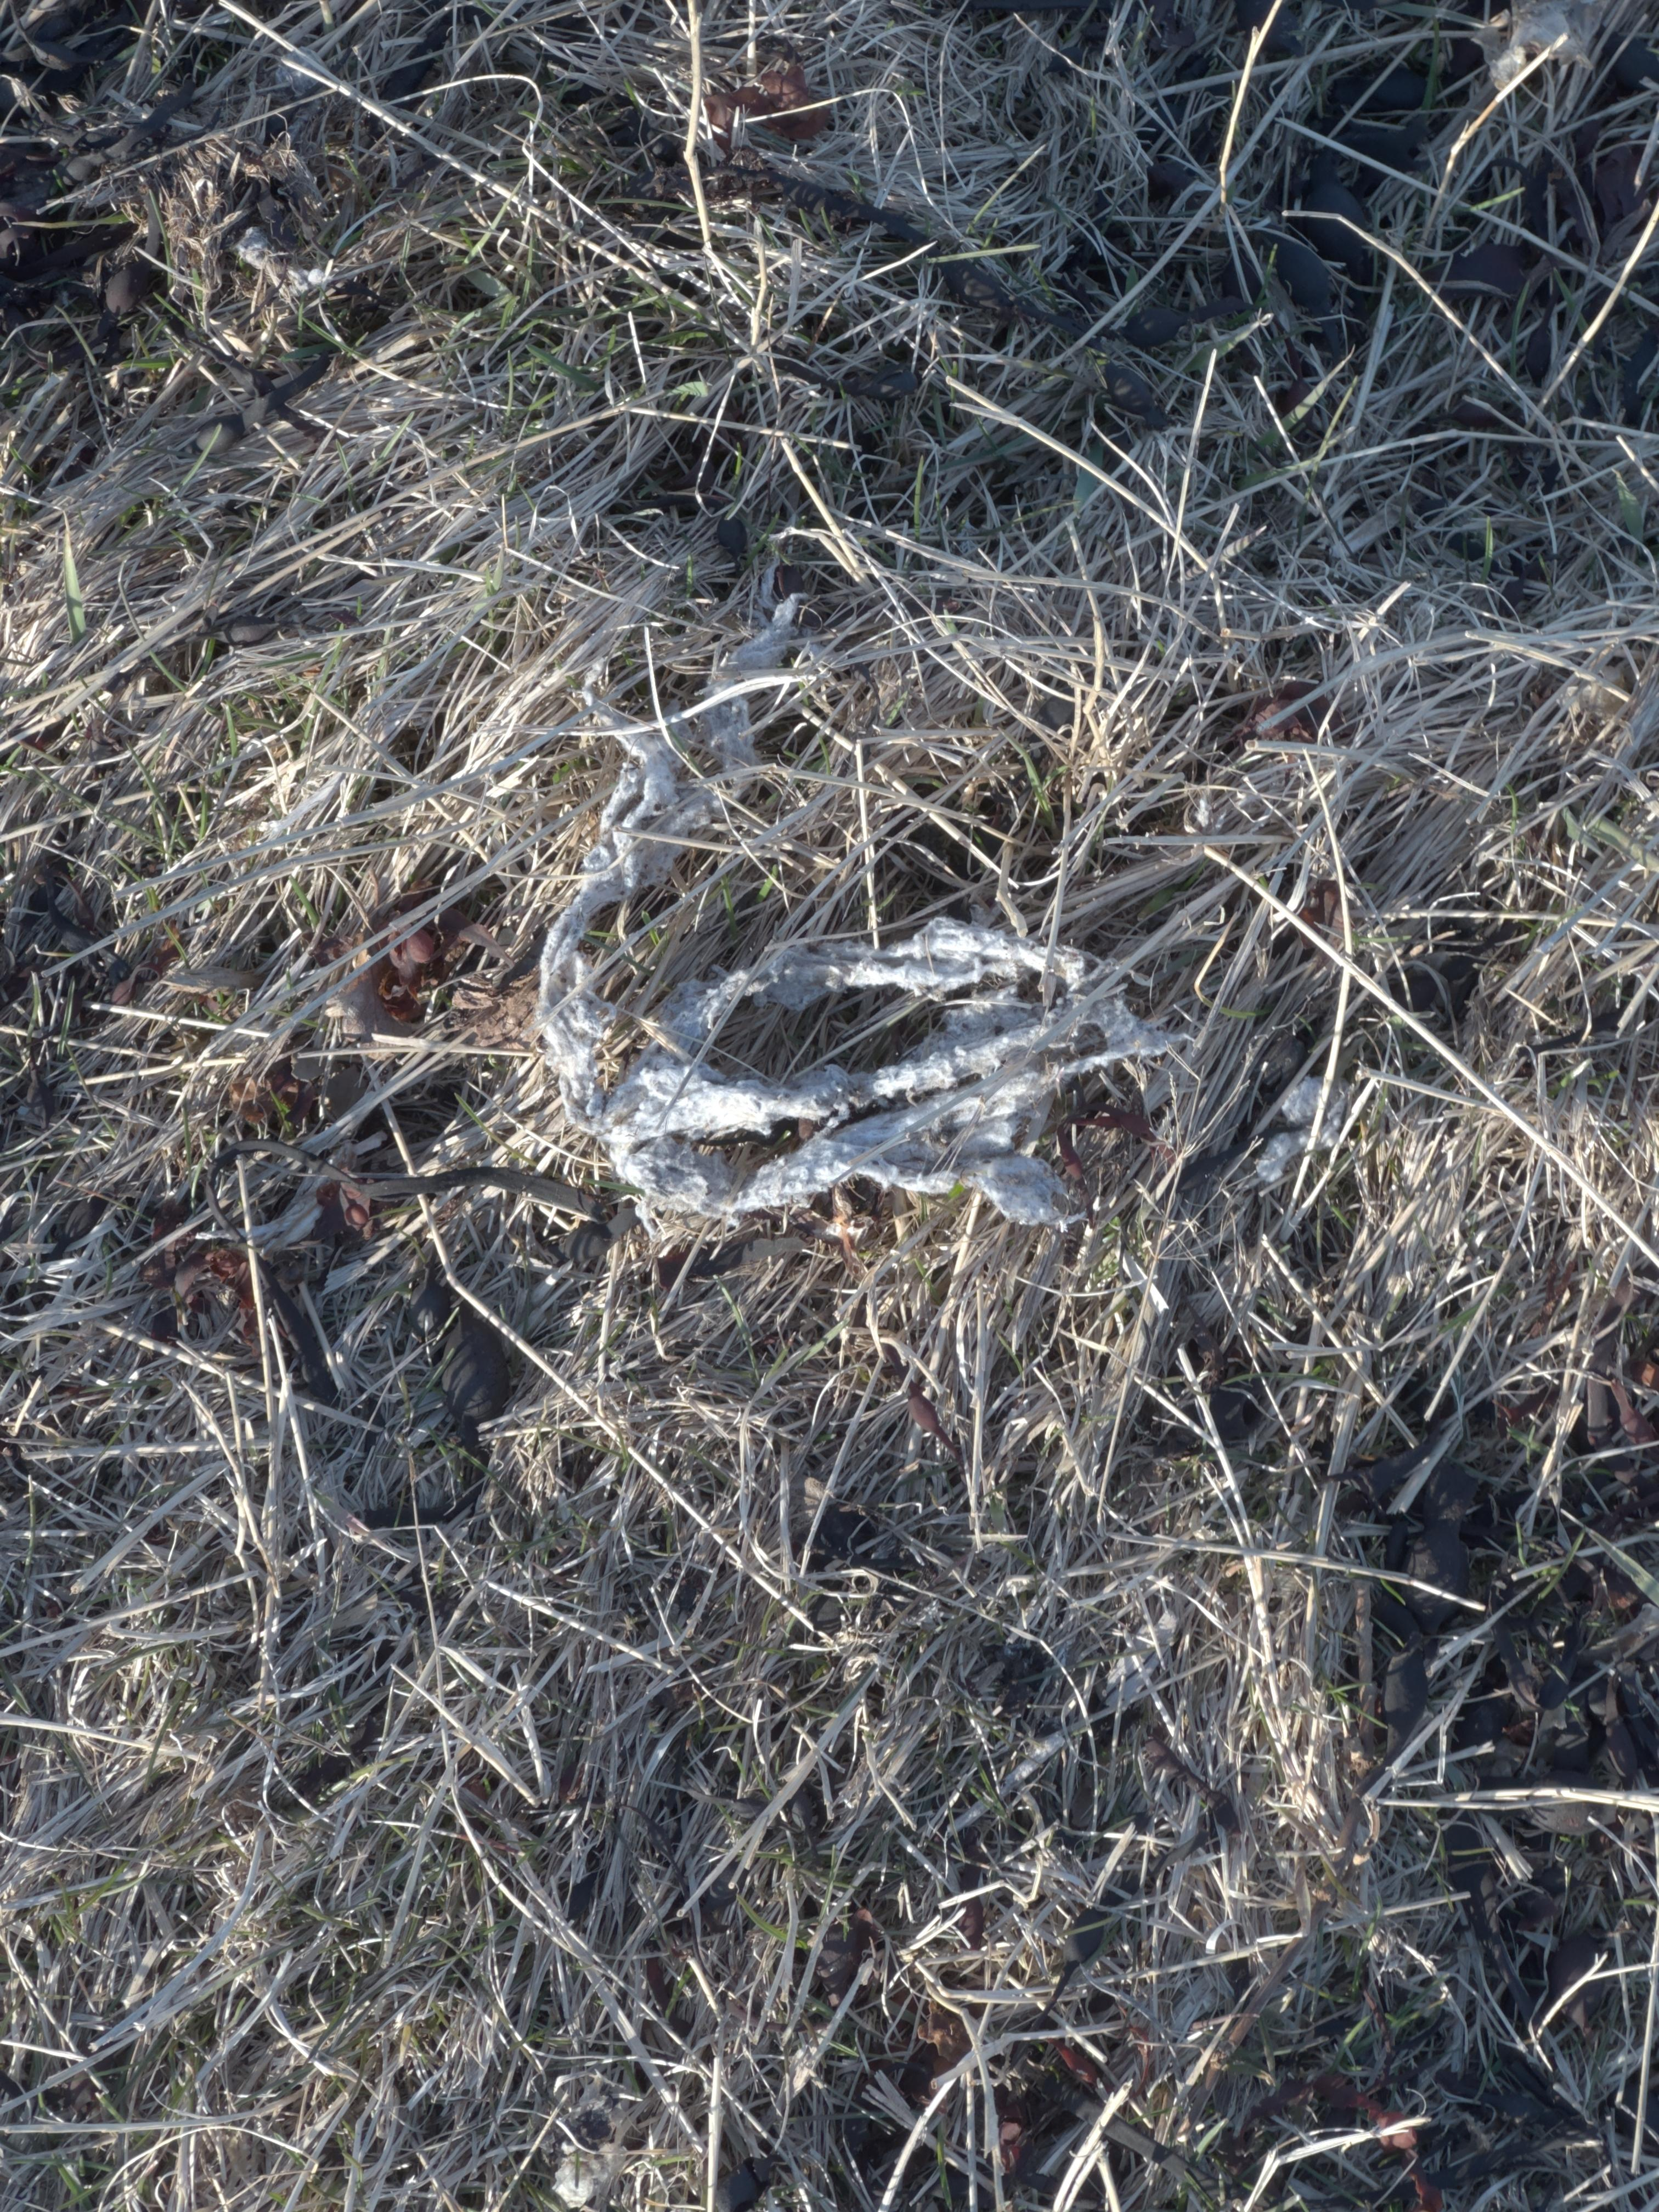trash: (535, 601, 1175, 1227)
